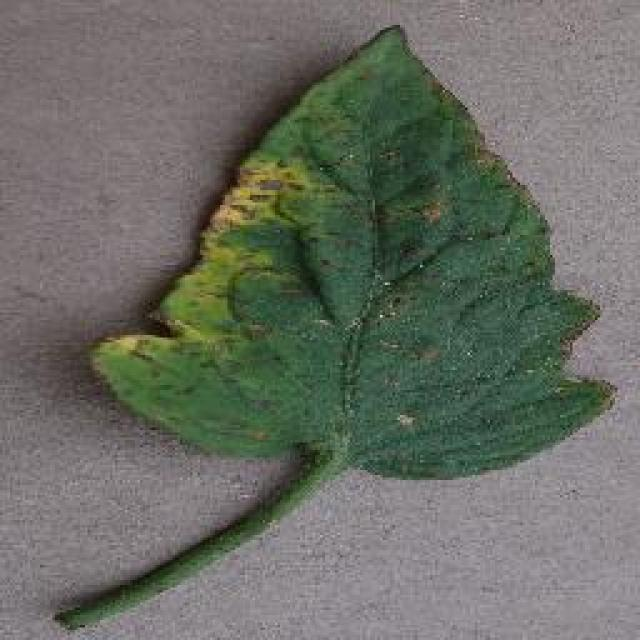Tomato bacterial spot leaf: (104, 34, 611, 478)
